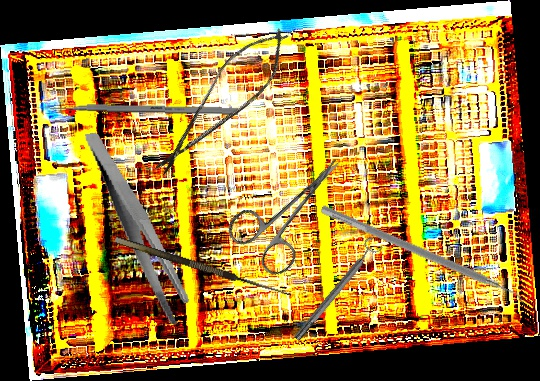Dressing Forceps: (83, 120, 194, 335)
Fixation Ring: (288, 234, 385, 346)
Hook Surgical: (114, 226, 295, 300)
Iris Scissors: (222, 136, 367, 282)
Micro Scissor: (140, 13, 304, 192)
Pusher: (33, 103, 239, 115)
Spatula Surgical: (316, 204, 532, 310)
